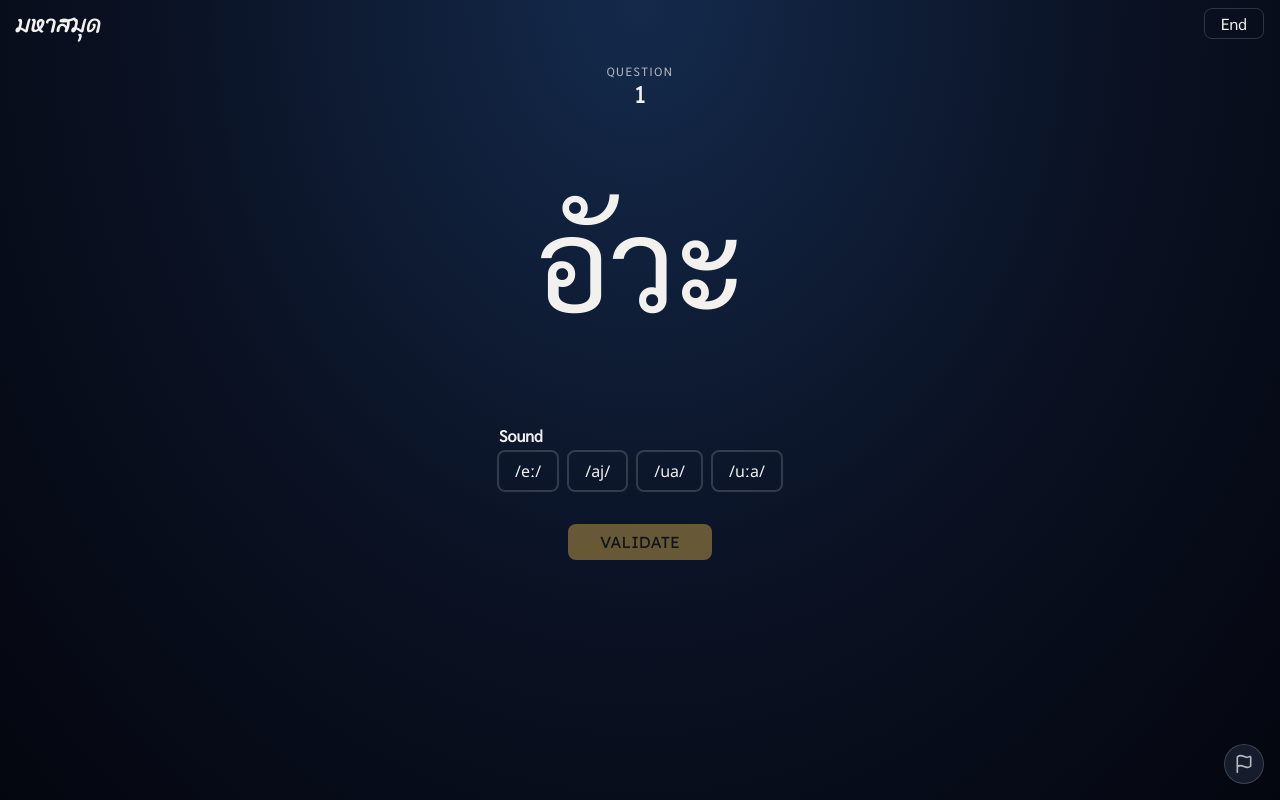
Test: VowelPage › reporting a question › holds the move to the next question while the window is open
Click the radio button labelled "/ua/" at (670, 471), box x1=636 y1=450 x2=703 y2=492
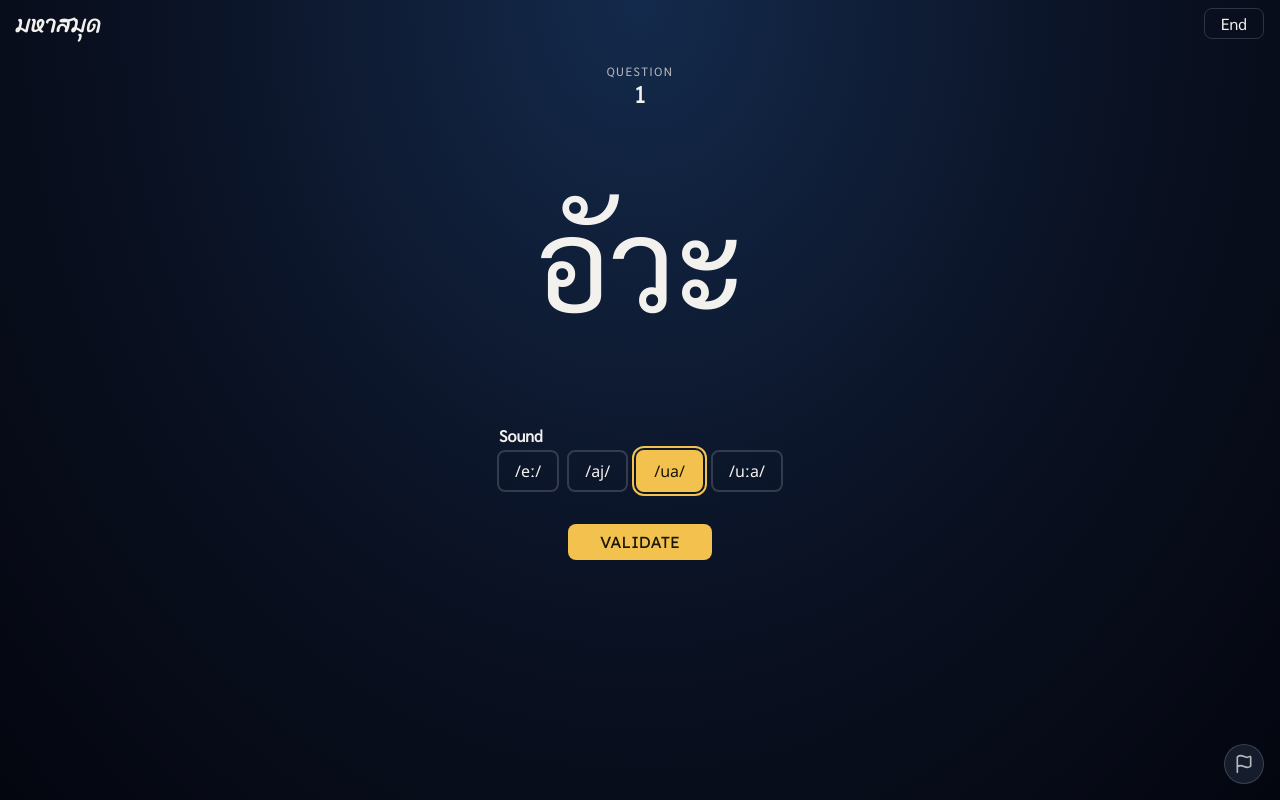
Click the button "Validate" at (640, 542), box x1=568 y1=524 x2=712 y2=560
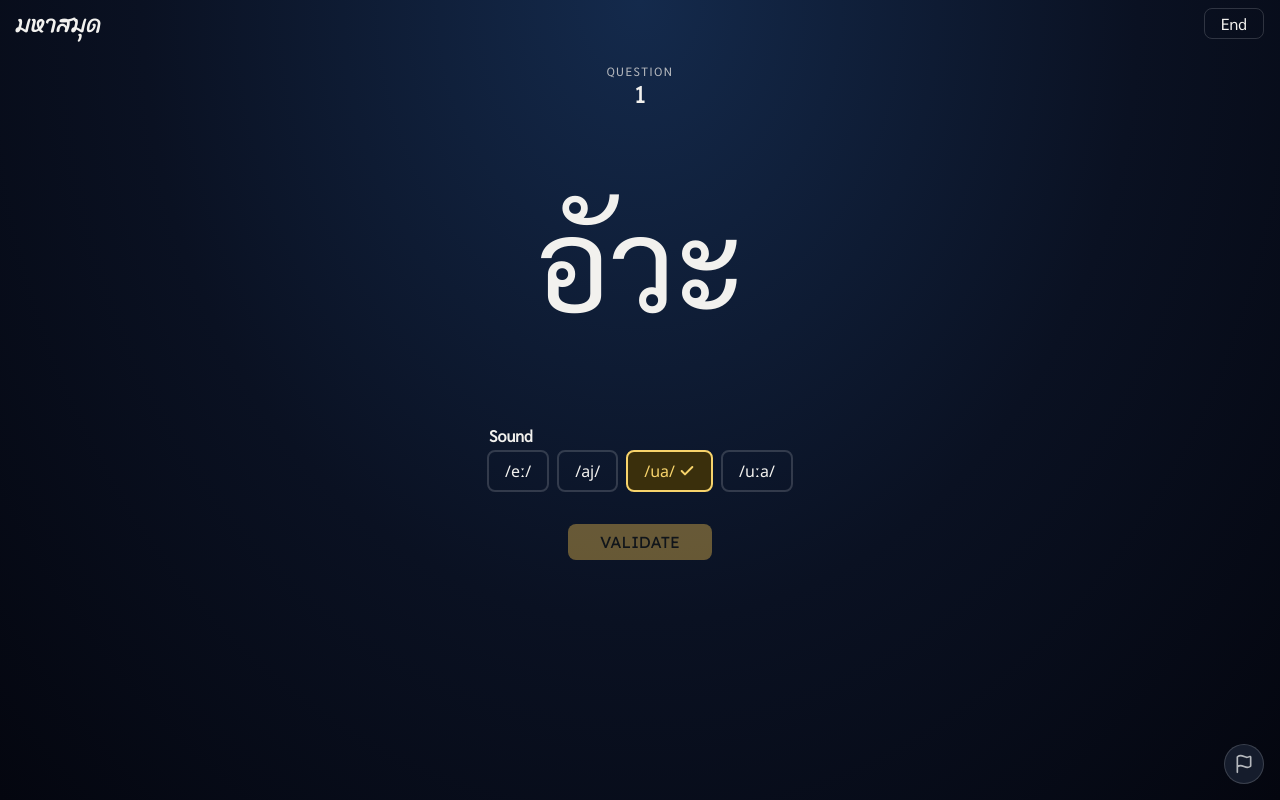
Click the button named "Report a problem with this question" at (1244, 764), box x1=1224 y1=744 x2=1264 y2=784
Wait 2000 ms
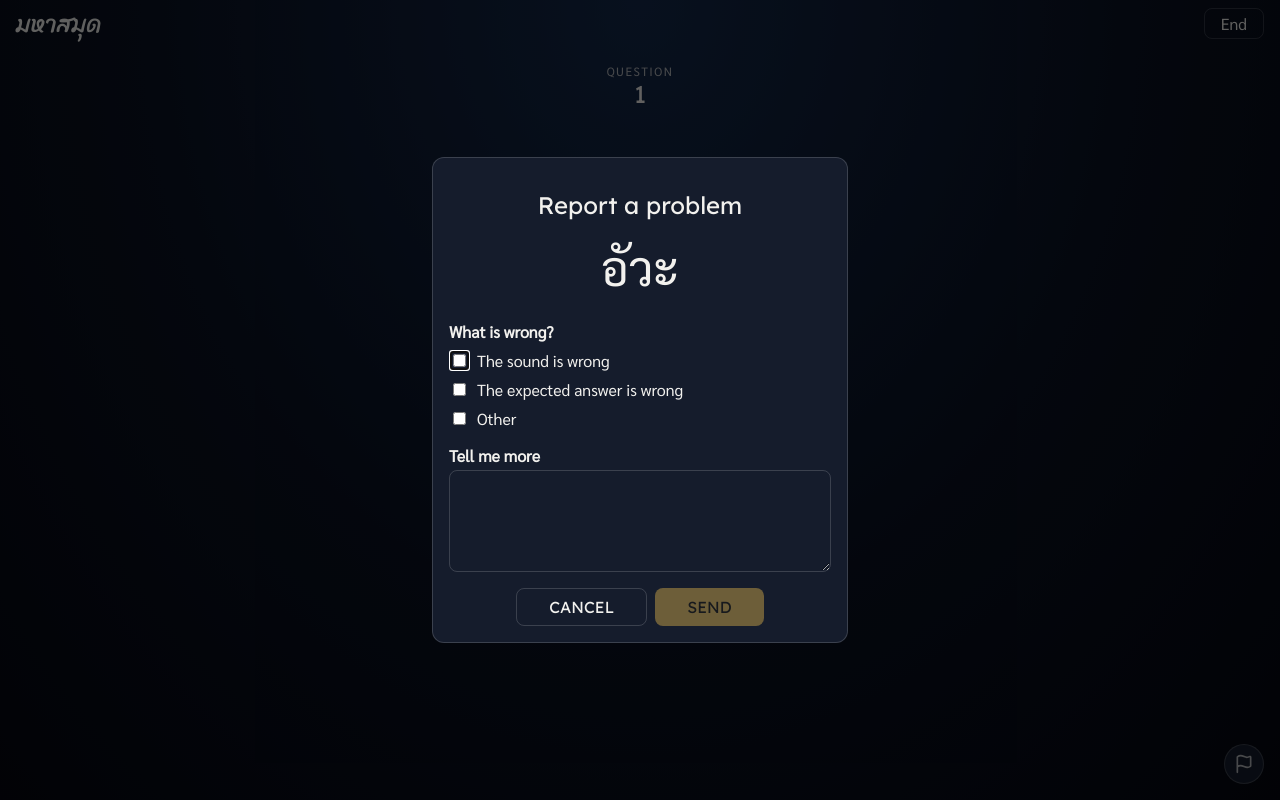
Expected: the text "เอือ" is not shown
Press Escape in the dialog, box x1=432 y1=157 x2=848 y2=643
Wait 1000 ms
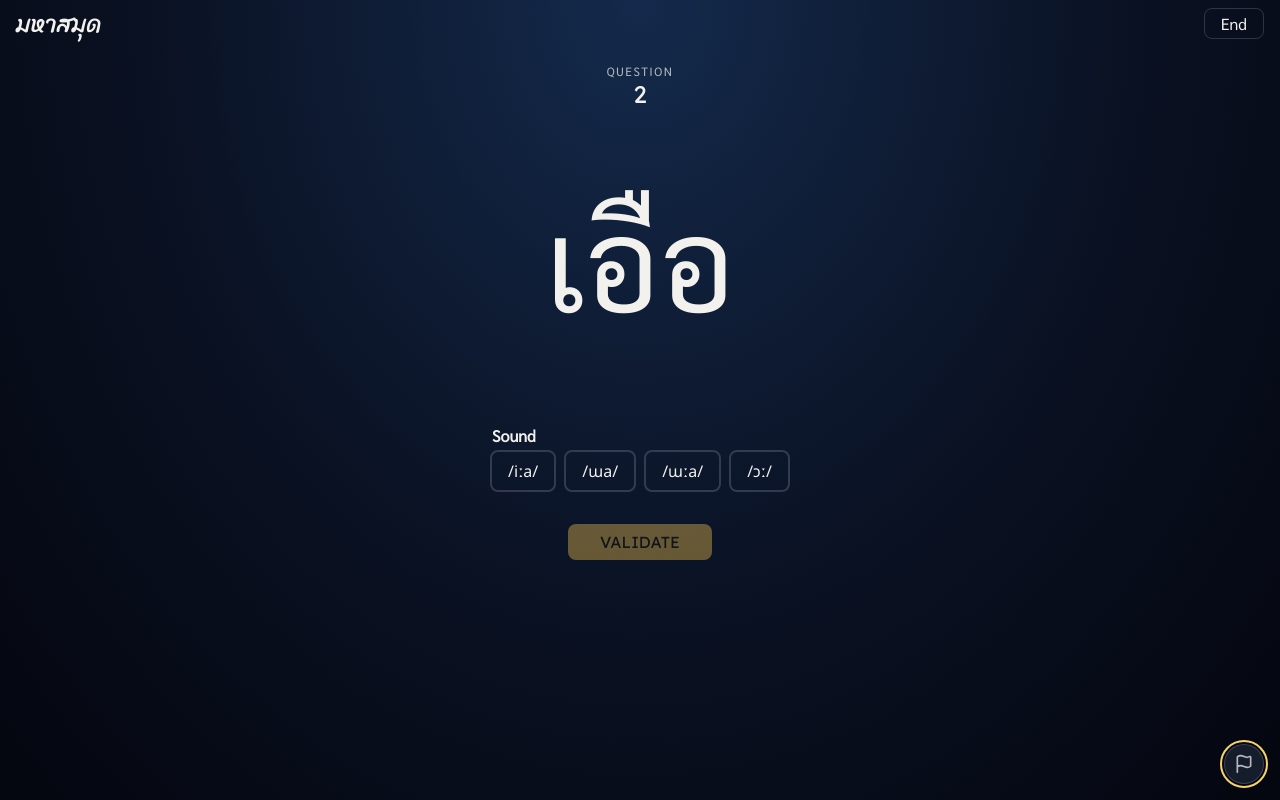
Expected: the text "เอือ" is shown, x1=545 y1=157 x2=735 y2=362
